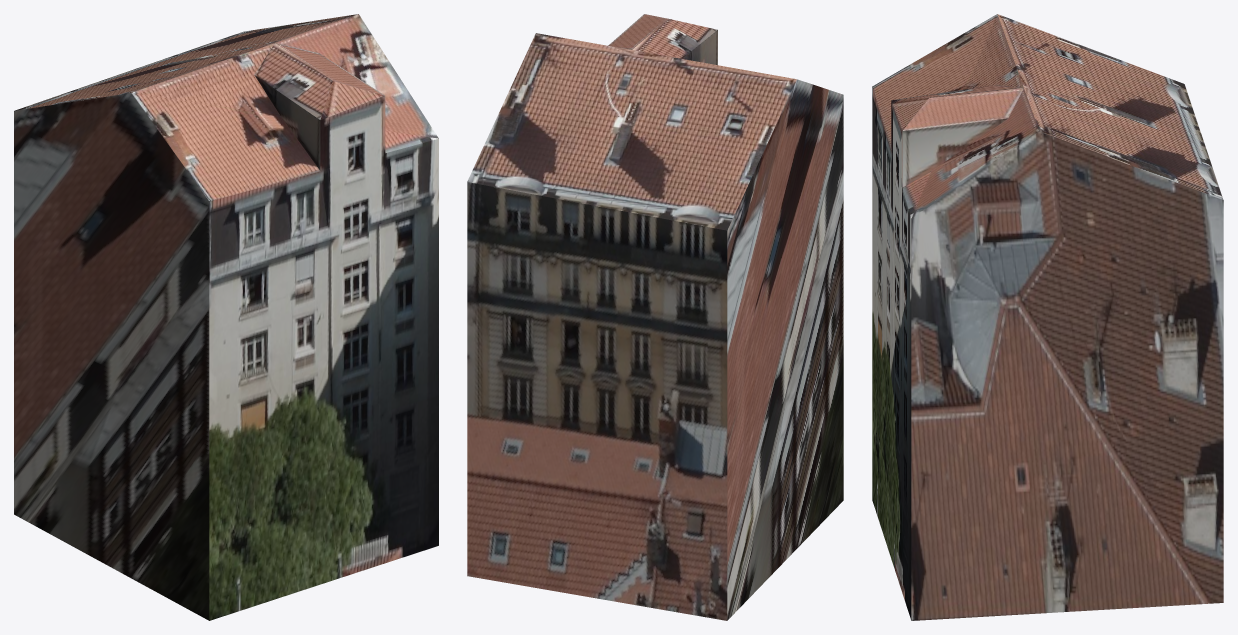
3 views of the same model, side by side, from view 1: azimuth 30°, elevation 25°; view 2: azimuth 150°, elevation 25°; view 3: azimuth 270°, elevation 25° (orthographic). The views are drawn at different scales.
Visible parts, largest first — view 1: Z_UP; view 2: Z_UP; view 3: Z_UP.
Boxes of the visible parts, <box> form: Z_UP: <box>14,14,438,620</box>; Z_UP: <box>467,14,843,620</box>; Z_UP: <box>872,14,1223,620</box>.
Size of the model in its own units: 17.16 by 27.91 by 18.41.
Materials: 2 (1 with a texture image).
